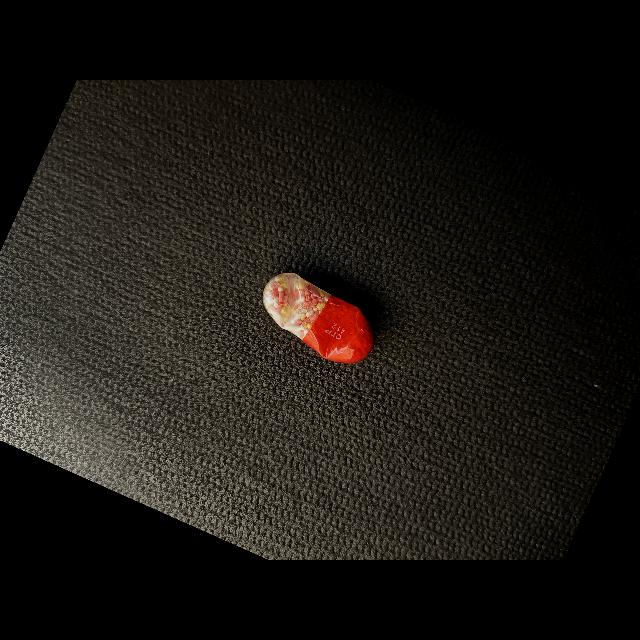Defective Capsule: (263, 273, 374, 363)
